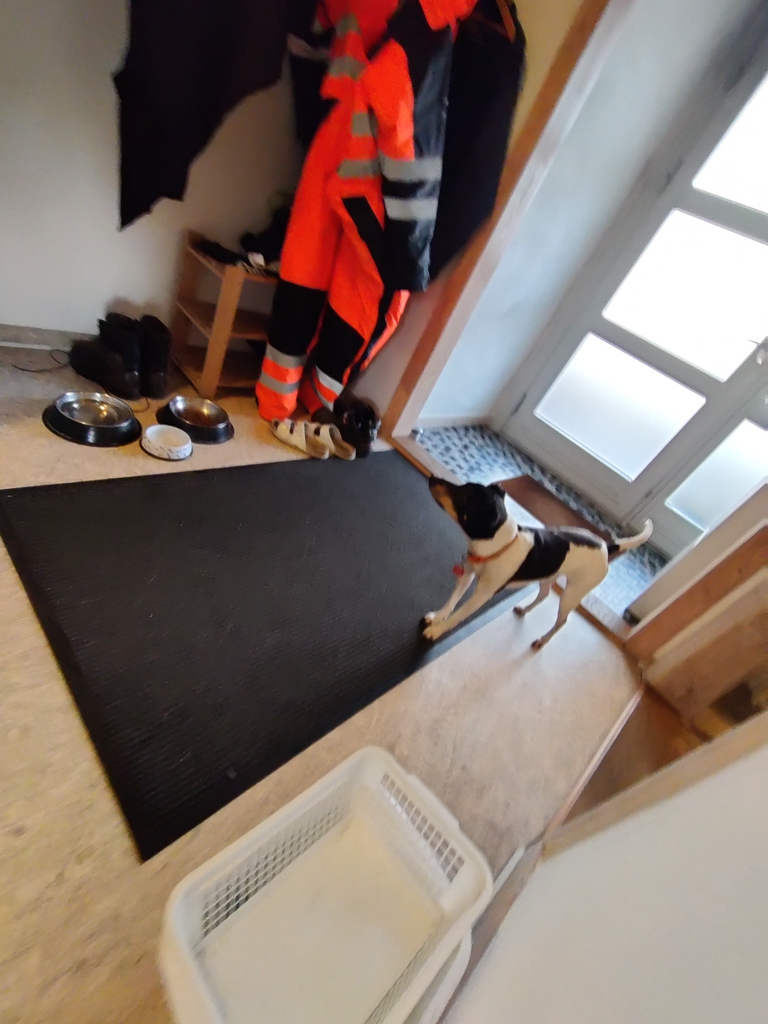Dog: (410, 466, 662, 659)
